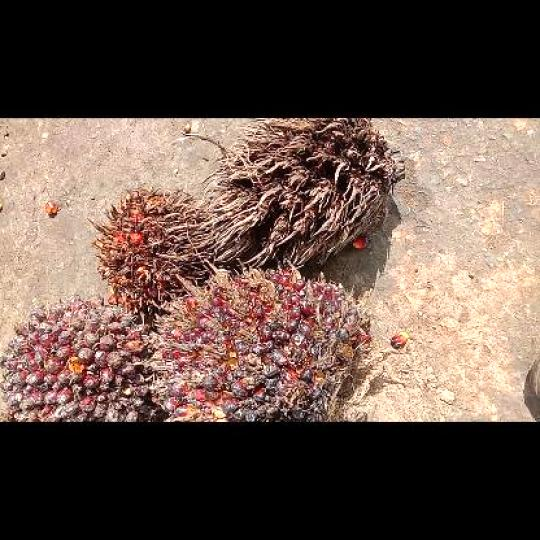kurang masak: (1, 291, 160, 420)
masak: (149, 258, 373, 420)
terlalu masak: (86, 183, 218, 318)
